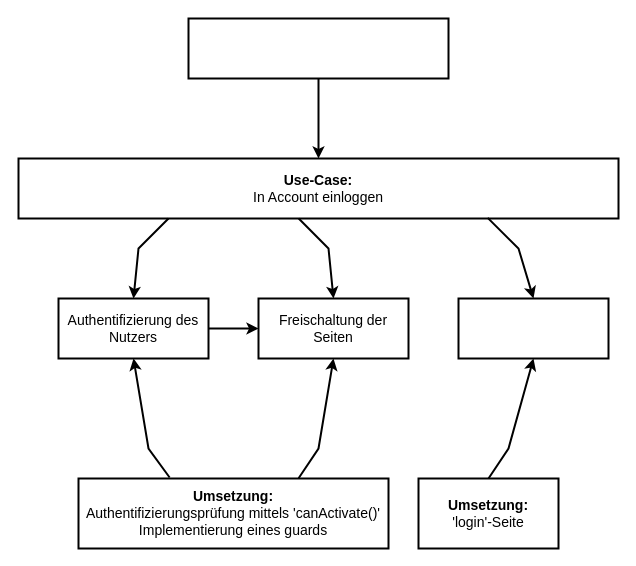
This 636x566 diagram has some shape labels left out. The centre of each missing label's shape, as x and y in pixels:
Eintragen der zu sendenden Daten: (x=533, y=328)
Vorraussetzungen: UC: 'Einen Account erstellen': (x=318, y=48)
